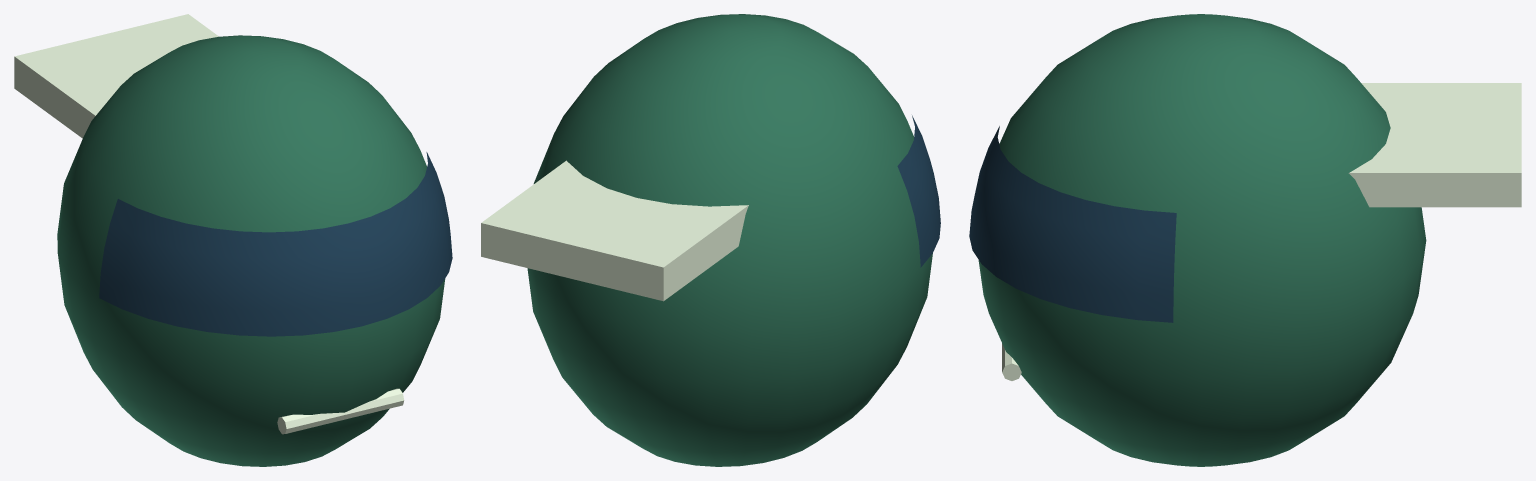
Rendered from tail.glb.
The picture shows the model from 3 angles, left to right: view 1: azimuth 30°, elevation 25°; view 2: azimuth 150°, elevation 25°; view 3: azimuth 270°, elevation 25°; orthographic projection. The views are drawn at different scales.
Visible parts, largest first — view 1: Helmet; view 2: Helmet; view 3: Helmet.
Part boxes in pixels (x1,y1,x2,y2): Helmet: (14, 14, 452, 466); Helmet: (481, 14, 940, 466); Helmet: (969, 14, 1521, 466).
Bounding box in the file's own units: 0.25 × 0.284 × 0.336.
